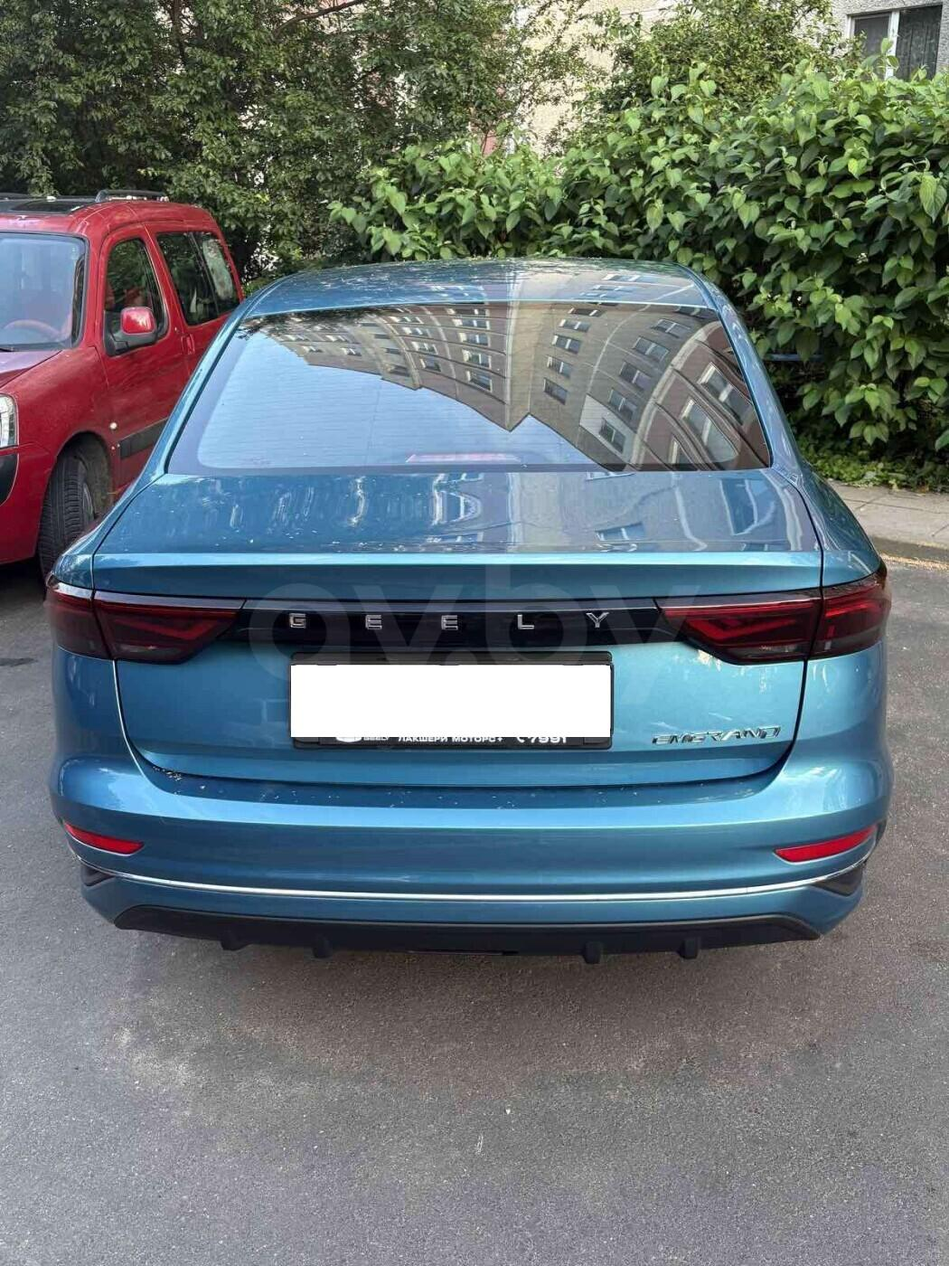Emgrand_2021: (47, 253, 893, 975)
